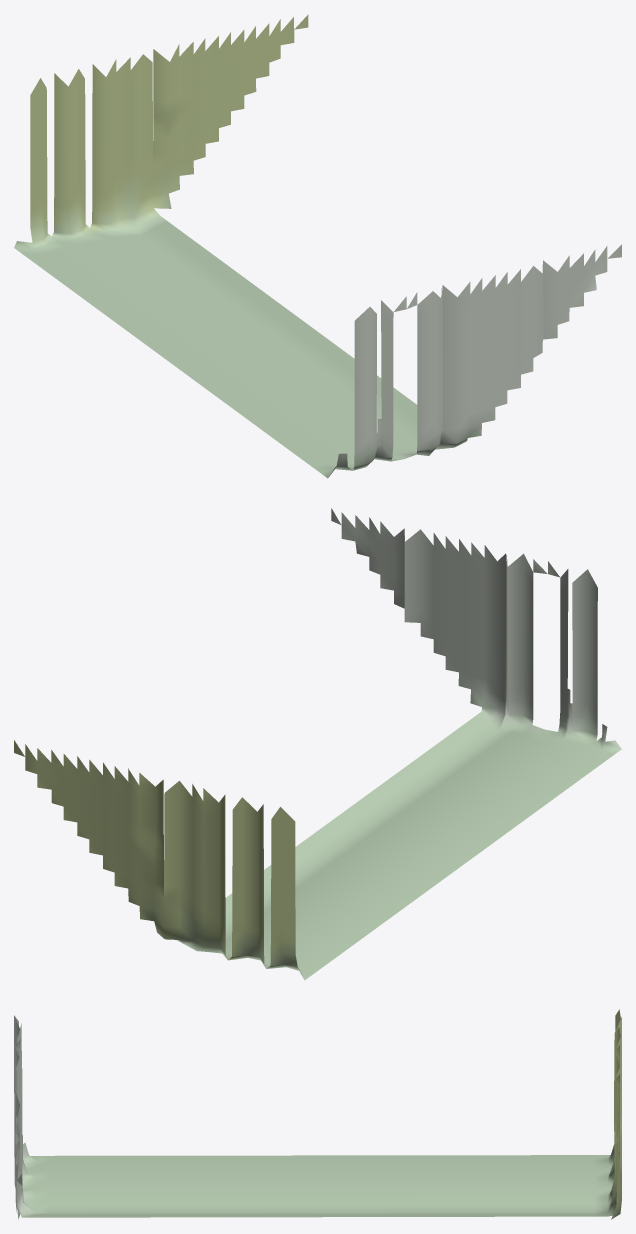
The model's file is tile_7e4ccbd5fe0e_0_-1_-2_0_lod0.glb.
3 views of the same model, one above another, from view 1: azimuth 30°, elevation 25°; view 2: azimuth 150°, elevation 25°; view 3: azimuth 270°, elevation 25° (orthographic). The views are drawn at different scales.
Size of the model in its own units: 1.84 by 1.03 by 3.48.
